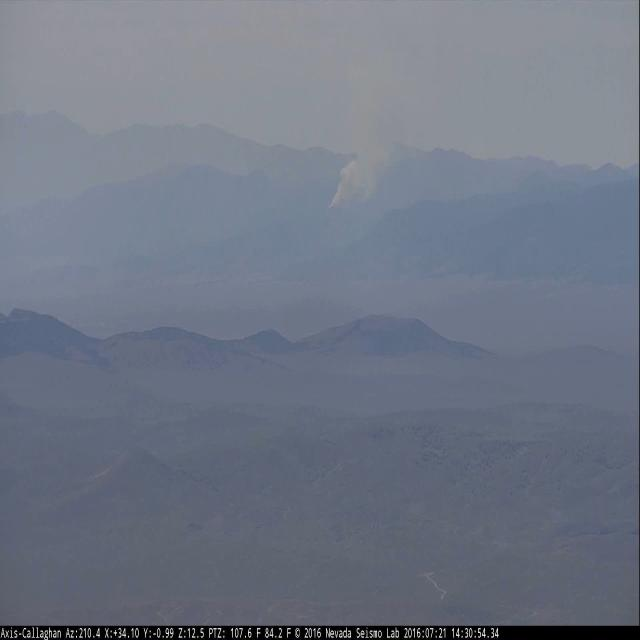smoke: (327, 42, 407, 209)
